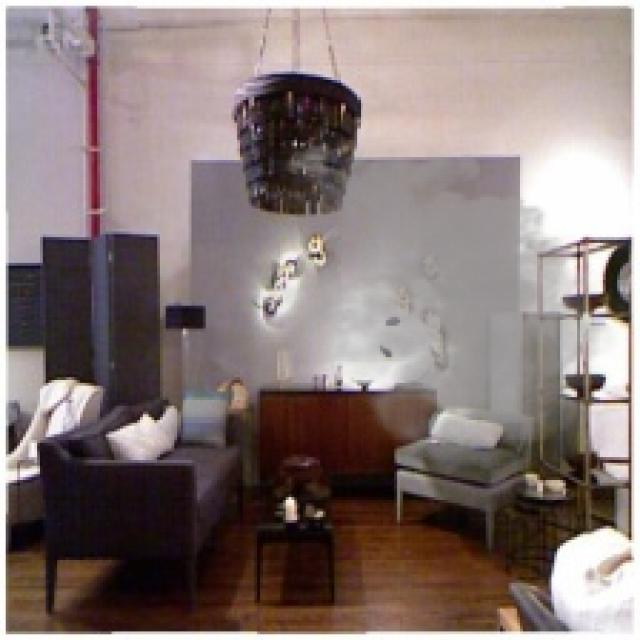smoke: (217, 132, 632, 477)
